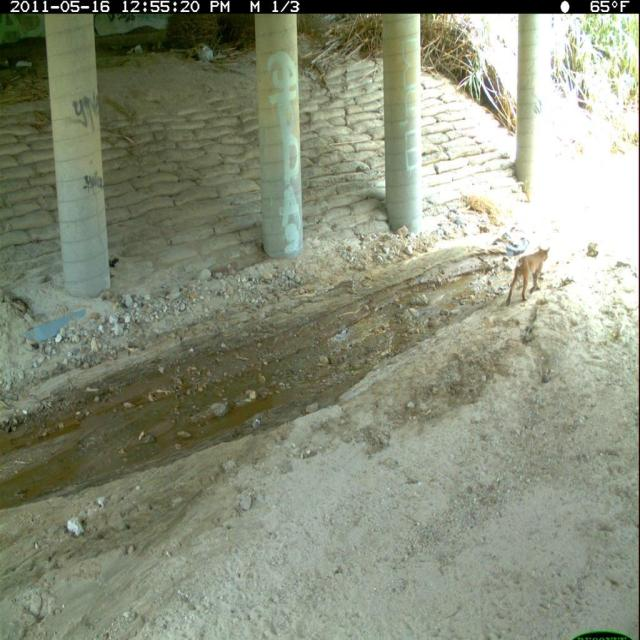bobcat: (502, 244, 552, 308)
